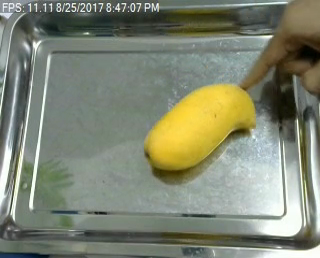Mango: (143, 80, 261, 179)
